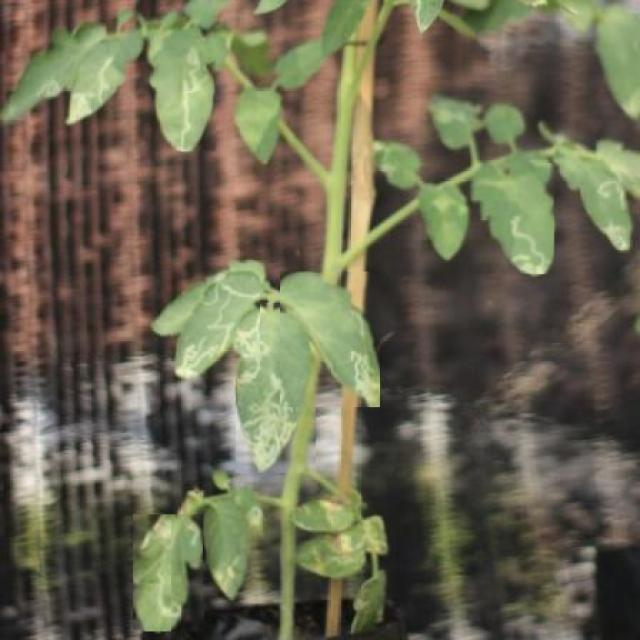Leaf Miner: (236, 303, 316, 473), (280, 272, 380, 407), (170, 266, 260, 378), (470, 162, 554, 274), (133, 514, 204, 632), (151, 28, 216, 152), (203, 492, 251, 602)
